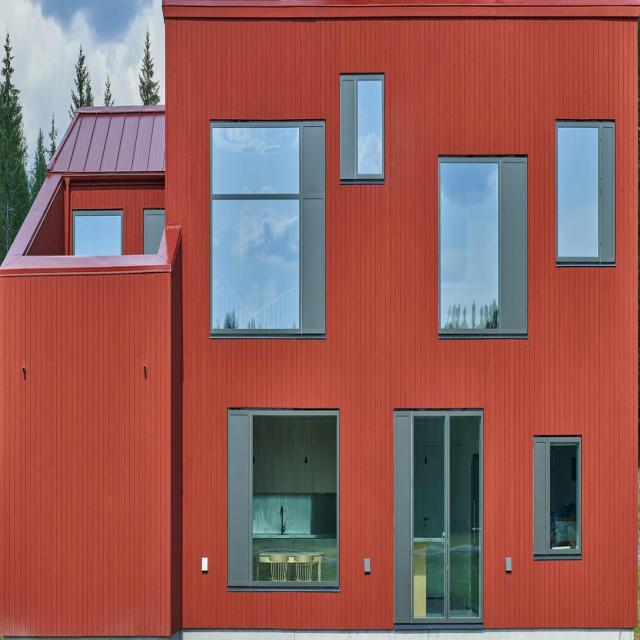door: (393, 409, 483, 637)
window: (212, 128, 326, 336), (227, 407, 338, 595), (440, 158, 527, 335), (555, 121, 616, 263), (535, 437, 583, 555), (72, 215, 120, 254), (144, 207, 166, 256)
